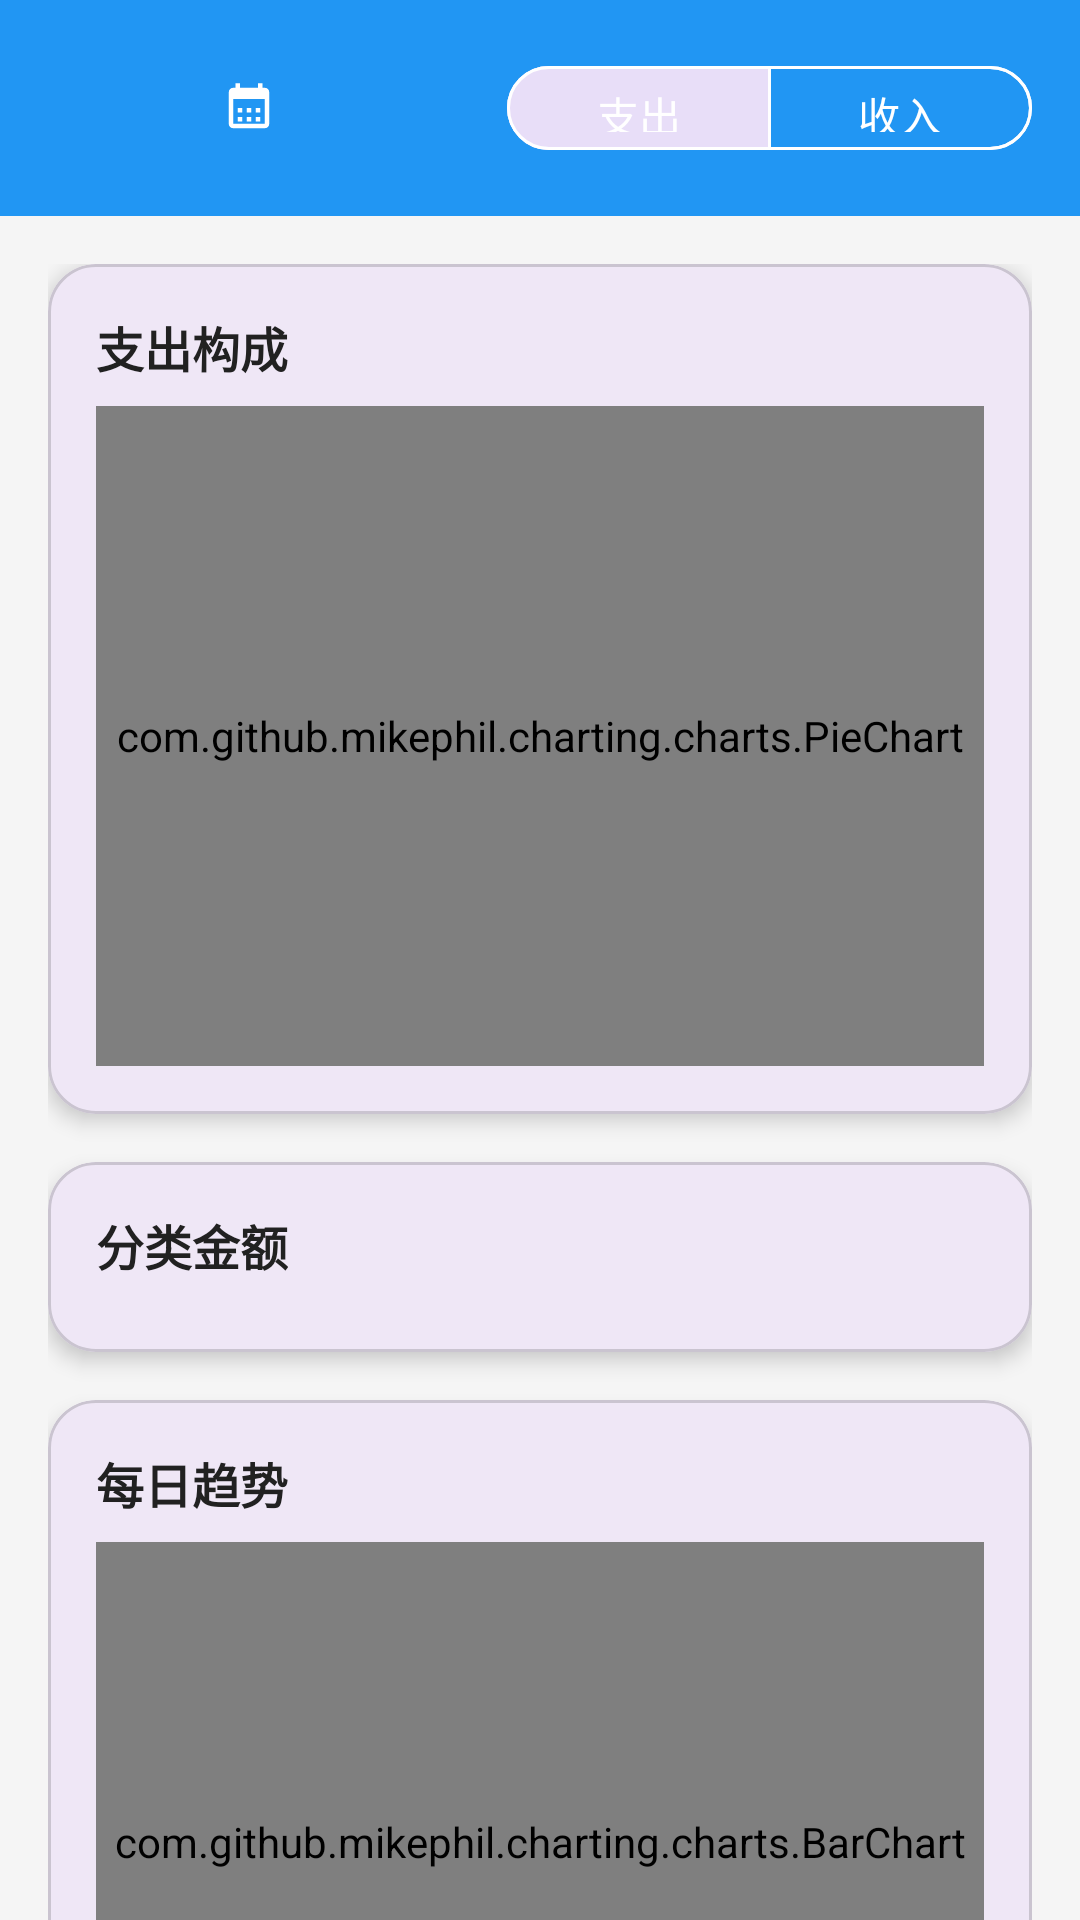

Icons on this 1080x1920 Android screen, each with the point to tap as (x,y):
calendar: (249,106)
